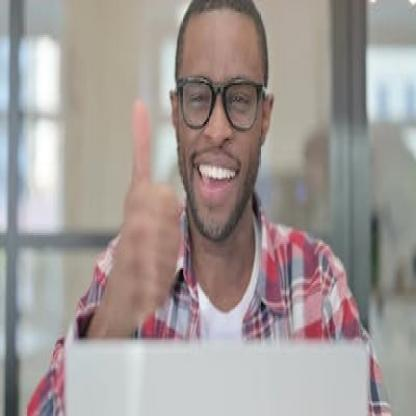Thumbs-Up: (99, 93, 184, 321)
